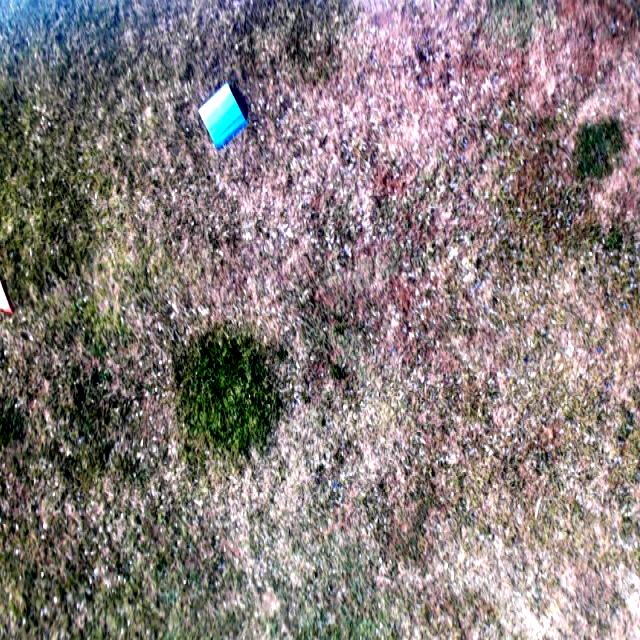blue_square: (198, 78, 249, 152)
